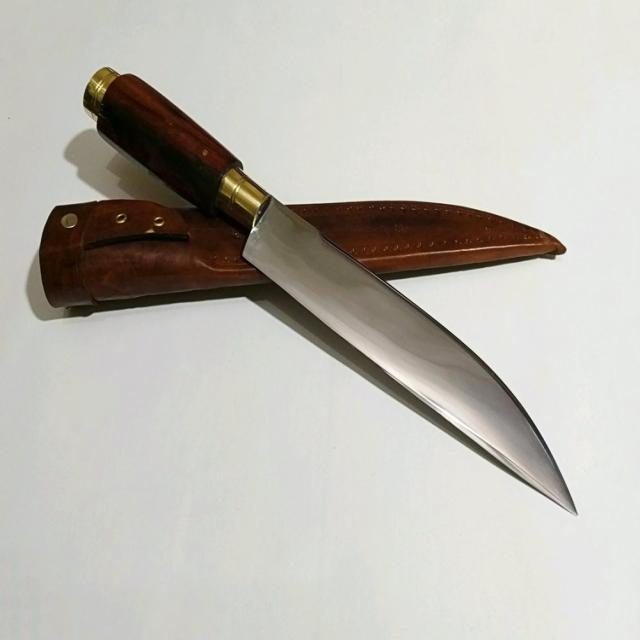Pisau: (83, 49, 584, 532)
